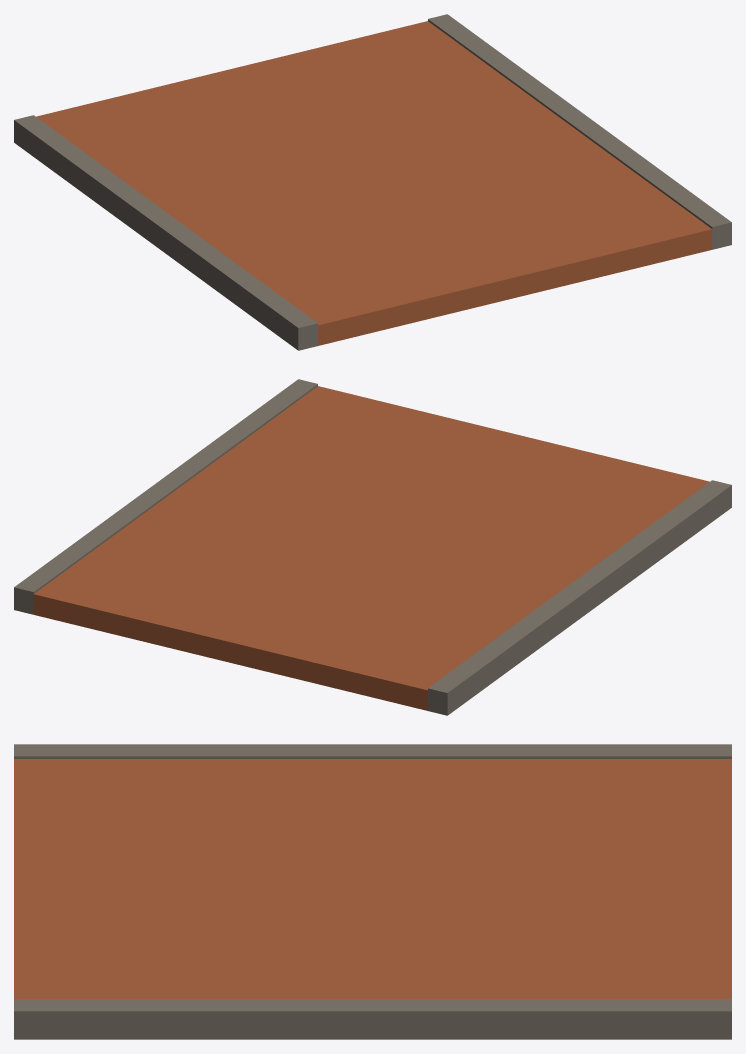
File: infra_road_arm_e2.glb
The picture shows the model from 3 angles, top to bottom: view 1: azimuth 30°, elevation 25°; view 2: azimuth 150°, elevation 25°; view 3: azimuth 270°, elevation 25°; orthographic projection. The views are drawn at different scales.
Parts seen in each view (by area): view 1: infra_road_arm_e2; view 2: infra_road_arm_e2; view 3: infra_road_arm_e2.
Part boxes in pixels (box(x1,y1,x2,y2)): infra_road_arm_e2: box(14, 14, 731, 350); infra_road_arm_e2: box(14, 379, 731, 715); infra_road_arm_e2: box(14, 744, 731, 1039).
Bounding box in the file's own units: 0.44 × 0.022 × 0.5.
